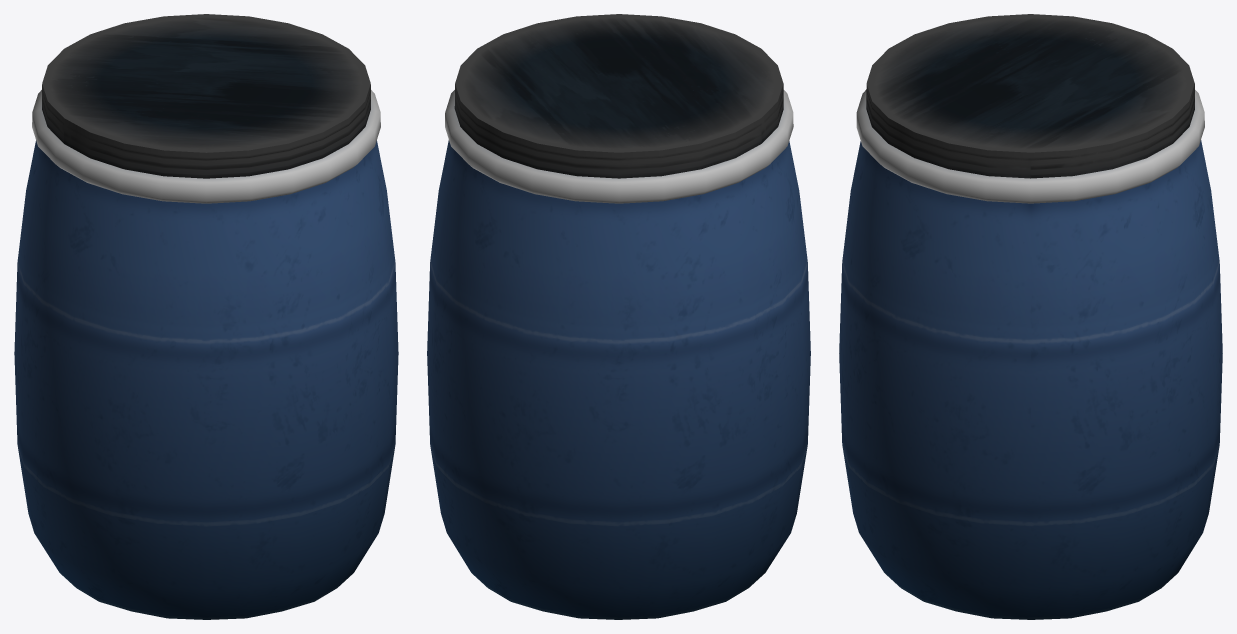
The model's file is KitchenWaste_Bucket.fbx.
The picture shows the model from 3 angles, left to right: view 1: azimuth 30°, elevation 25°; view 2: azimuth 150°, elevation 25°; view 3: azimuth 270°, elevation 25°; orthographic projection.
Visible parts, largest first — view 1: KitchenWaste_Bucket; view 2: KitchenWaste_Bucket; view 3: KitchenWaste_Bucket.
Part boxes in pixels (x1,y1,x2,y2): KitchenWaste_Bucket: [14, 14, 398, 619]; KitchenWaste_Bucket: [427, 14, 810, 619]; KitchenWaste_Bucket: [839, 14, 1222, 619].
Bounding box in the file's own units: 61.19 × 83.19 × 61.19.
